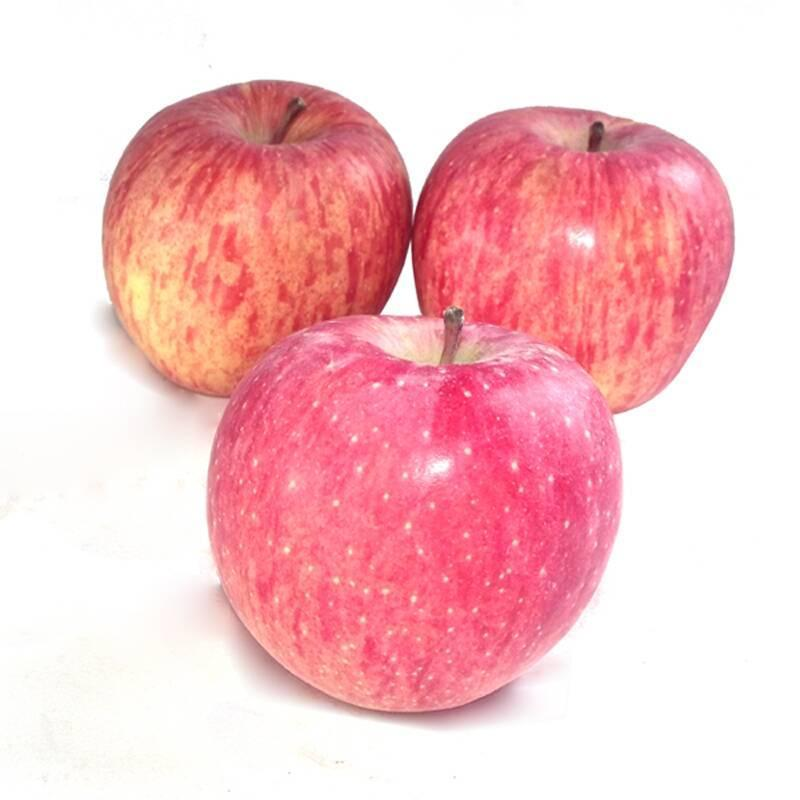apple: (206, 317, 627, 716), (324, 106, 737, 423), (97, 78, 411, 400)
